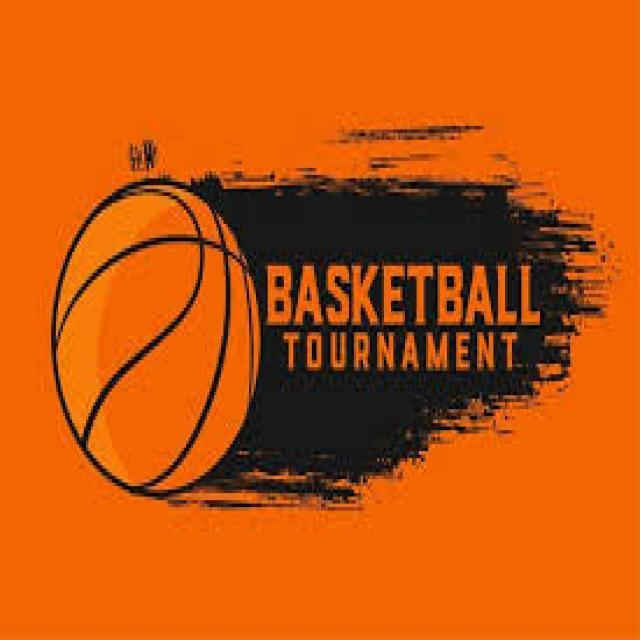basketball: (51, 182, 263, 500)
